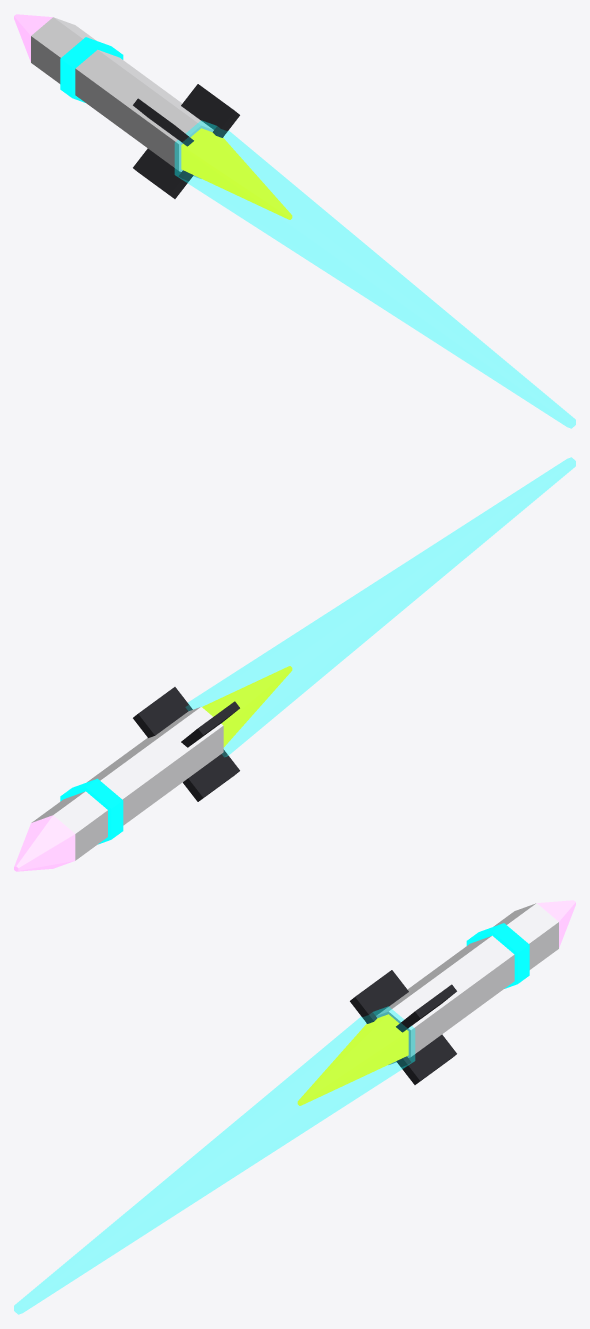
Rendered from Proj_MicroMissile.fbx.
The picture shows the model from 3 angles, top to bottom: view 1: azimuth 30°, elevation 25°; view 2: azimuth 150°, elevation 25°; view 3: azimuth 330°, elevation 25°; orthographic projection.
Visible parts, largest first — view 1: Mis_Smoke, Mis_Body, Mis_Flame, Mis_Fin0, Mis_Fin2, Mis_Band, Mis_Tip, Mis_Fin1; view 2: Mis_Smoke, Mis_Body, Mis_Tip, Mis_Flame, Mis_Fin0, Mis_Fin2, Mis_Band, Mis_Fin1; view 3: Mis_Smoke, Mis_Body, Mis_Flame, Mis_Fin1, Mis_Fin3, Mis_Band, Mis_Tip, Mis_Fin0.
Boxes of the visible parts, x1,y1,x2,y2 form: Mis_Smoke: [175, 120, 575, 428]; Mis_Body: [31, 17, 223, 178]; Mis_Flame: [181, 128, 292, 219]; Mis_Fin0: [181, 84, 239, 137]; Mis_Fin2: [133, 148, 193, 198]; Mis_Band: [60, 37, 123, 102]; Mis_Tip: [14, 14, 52, 61]; Mis_Fin1: [133, 98, 193, 146]; Mis_Smoke: [186, 457, 575, 756]; Mis_Body: [31, 707, 223, 860]; Mis_Tip: [14, 815, 75, 871]; Mis_Flame: [202, 666, 292, 747]; Mis_Fin0: [133, 687, 192, 737]; Mis_Fin2: [183, 749, 239, 801]; Mis_Band: [60, 778, 123, 844]; Mis_Fin1: [181, 701, 239, 747]; Mis_Smoke: [14, 1006, 414, 1314]; Mis_Body: [366, 903, 558, 1064]; Mis_Flame: [297, 1014, 408, 1105]; Mis_Fin1: [350, 970, 408, 1023]; Mis_Fin3: [396, 1034, 456, 1084]; Mis_Band: [466, 923, 529, 988]; Mis_Tip: [537, 900, 575, 947]; Mis_Fin0: [396, 984, 456, 1032].
Bounding box in the file's own units: 0.0276 × 0.0276 × 0.375.
